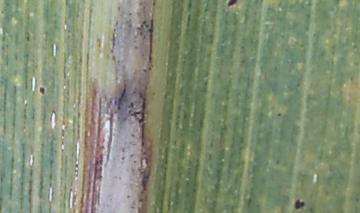tarspot: (295, 199, 305, 210), (38, 86, 46, 96), (227, 1, 237, 8), (25, 36, 31, 42), (277, 111, 282, 118)
